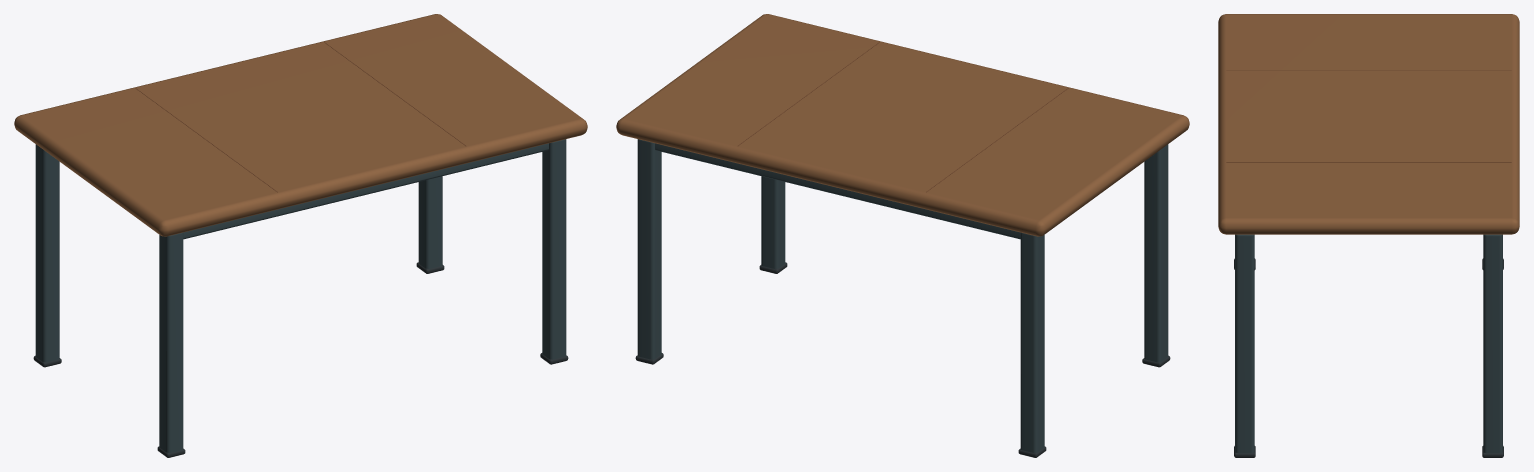
Rendered from HotelTogether-DiningTable4.glb.
3 renders of one model, left to right at view 1: azimuth 30°, elevation 25°; view 2: azimuth 150°, elevation 25°; view 3: azimuth 270°, elevation 25°, orthographic.
Visible parts, largest first — view 1: Table_WoodTop, Table_MetalLeg, Table_MetalLeg.002, Table_MetalLeg.001, Table_SideApron, Table_MetalLeg.003; view 2: Table_WoodTop, Table_MetalLeg.001, Table_MetalLeg.003, Table_MetalLeg, Table_SideApron.001, Table_MetalLeg.002; view 3: Table_WoodTop, Table_MetalLeg.002, Table_MetalLeg.003.
Boxes of the visible parts, <box> form: Table_WoodTop: <box>14,14,587,236</box>; Table_MetalLeg: <box>159,232,183,452</box>; Table_MetalLeg.002: <box>542,139,566,359</box>; Table_MetalLeg.001: <box>35,144,59,362</box>; Table_SideApron: <box>183,143,548,239</box>; Table_MetalLeg.003: <box>418,176,442,268</box>; Table_WoodTop: <box>616,14,1189,236</box>; Table_MetalLeg.001: <box>1020,232,1044,452</box>; Table_MetalLeg.003: <box>637,139,661,359</box>; Table_MetalLeg: <box>1144,144,1168,362</box>; Table_SideApron.001: <box>655,143,1020,239</box>; Table_MetalLeg.002: <box>761,176,785,268</box>; Table_WoodTop: <box>1218,14,1519,234</box>; Table_MetalLeg.002: <box>1235,234,1254,453</box>; Table_MetalLeg.003: <box>1483,234,1502,453</box>.
Bounding box in the file's own units: 1.4 × 0.7605 × 0.85.
